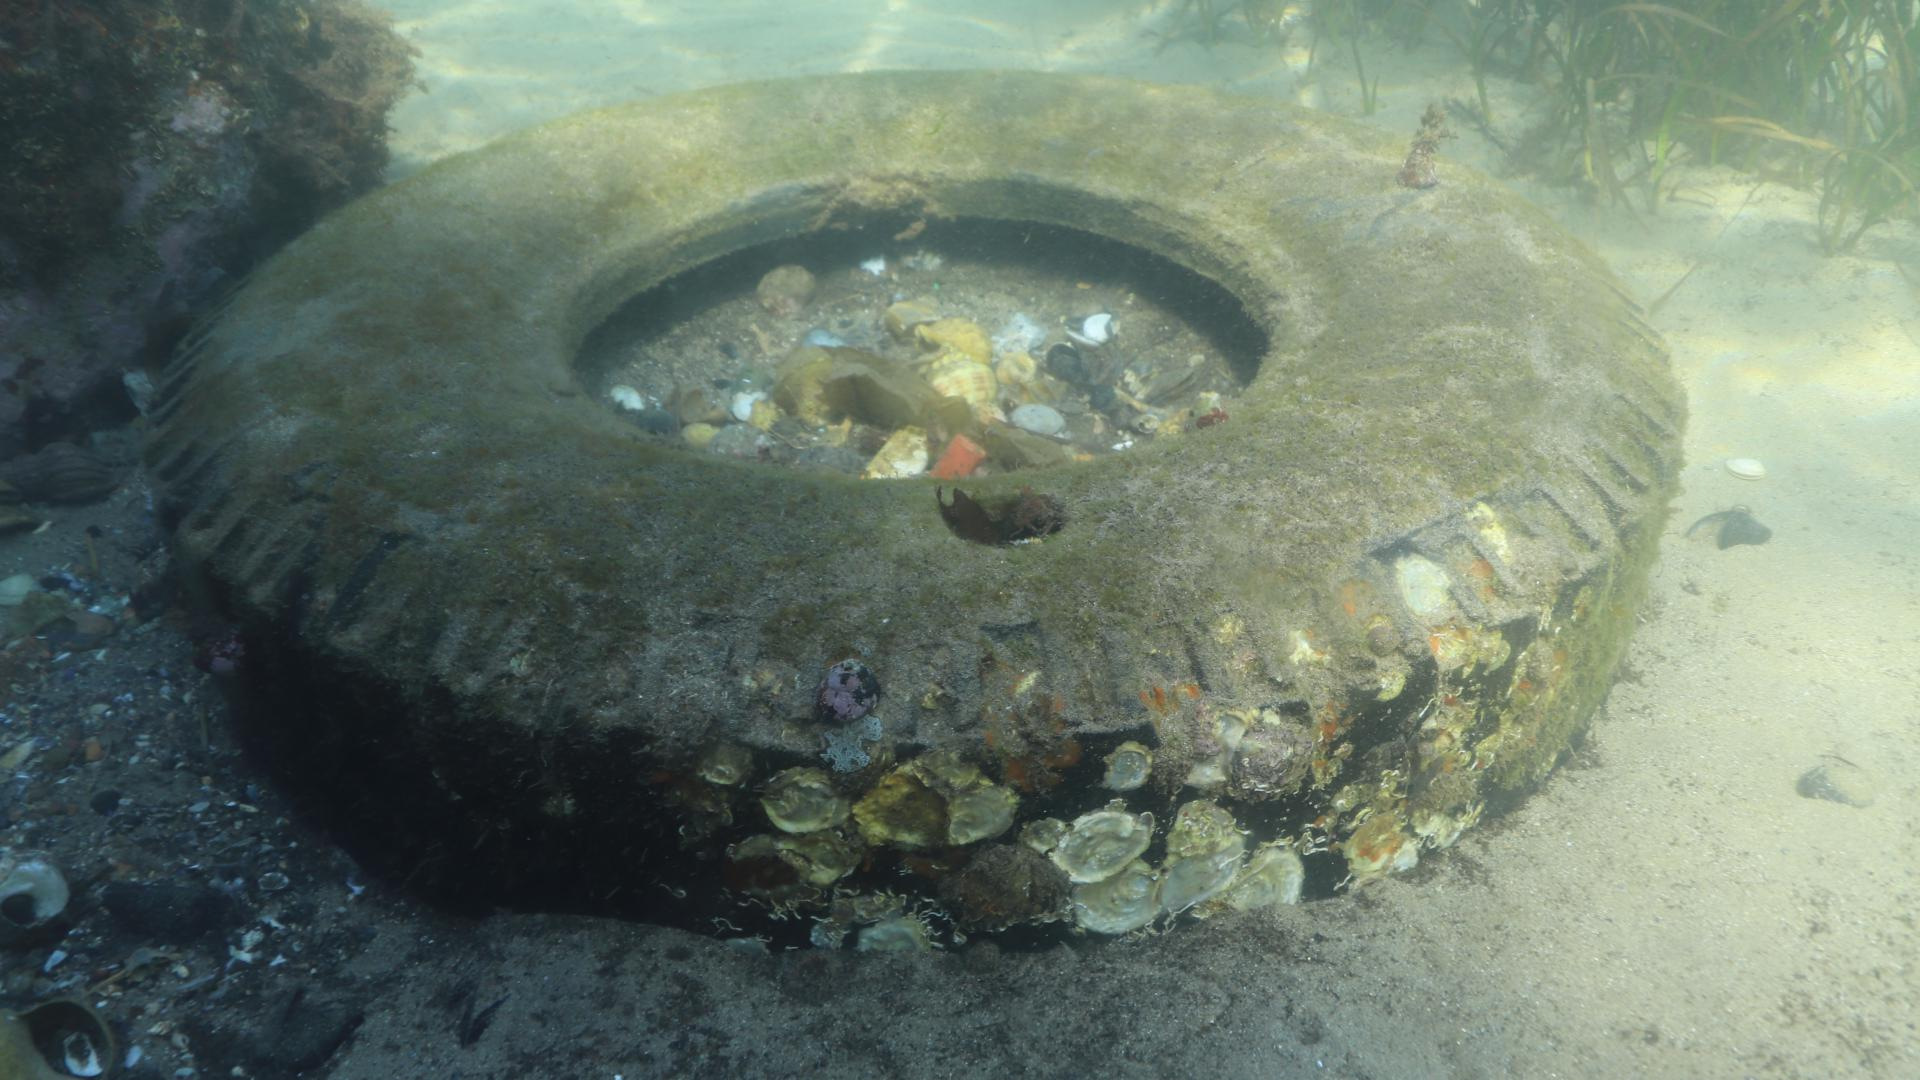tire: (142, 66, 1687, 953)
